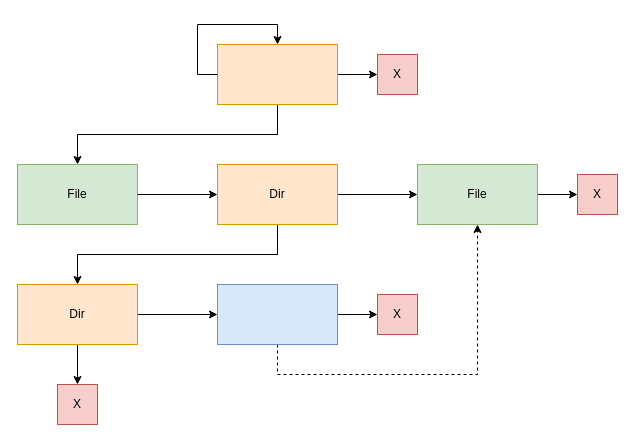
Some shapes in this 635 by 442 pixel diagram are drawn without their labels. The centre of each missing label's shape, as x and y in pixels:
"Root dir" belongs at (277,74).
"Symlink" belongs at (277,314).
